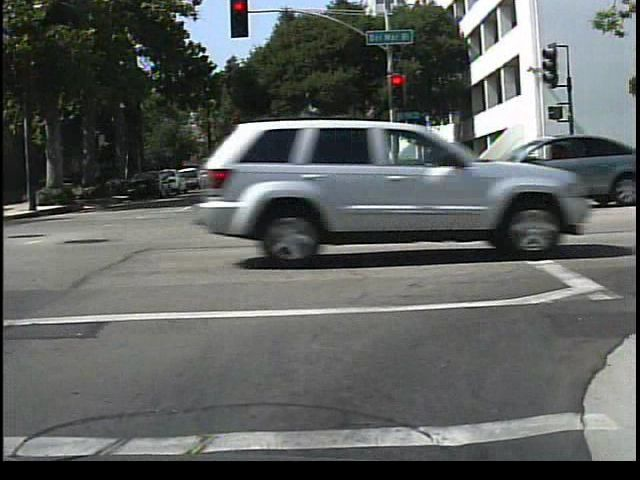person: (593, 132, 619, 196)
